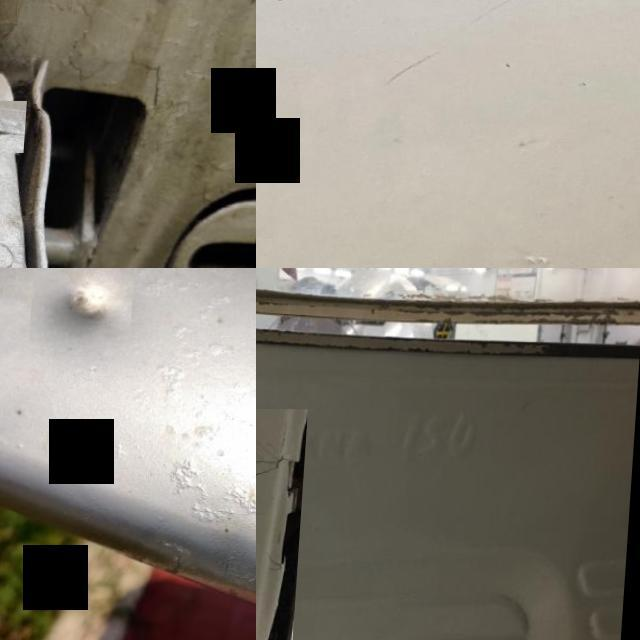Crack: (256, 407, 311, 640), (0, 99, 29, 152)
Dent: (29, 268, 136, 355)
